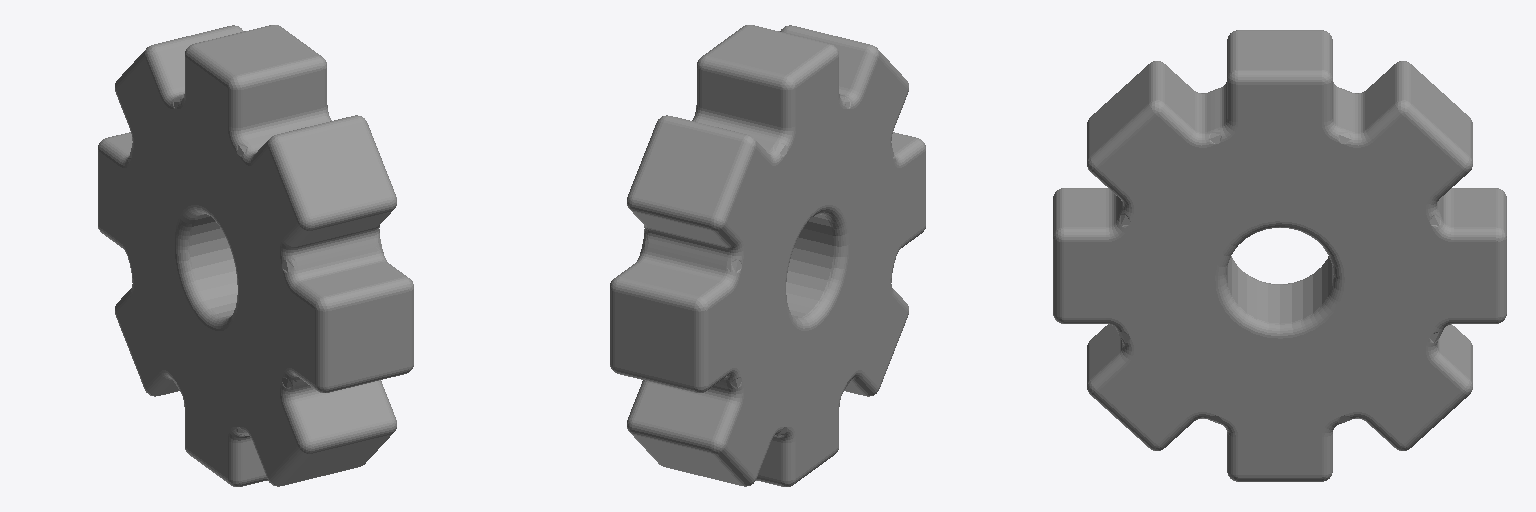
The model's file is gear.obj.
3 views of the same model, side by side, from view 1: azimuth 30°, elevation 25°; view 2: azimuth 150°, elevation 25°; view 3: azimuth 270°, elevation 25° (orthographic).
Visible parts, largest first — view 1: Part__Feature; view 2: Part__Feature; view 3: Part__Feature.
Boxes of the visible parts, box(x1,y1,x2,y2) form: Part__Feature: box(98, 25, 413, 486); Part__Feature: box(610, 25, 925, 486); Part__Feature: box(1053, 30, 1506, 481).
Bounding box in the file's own units: 15 × 60 × 60.